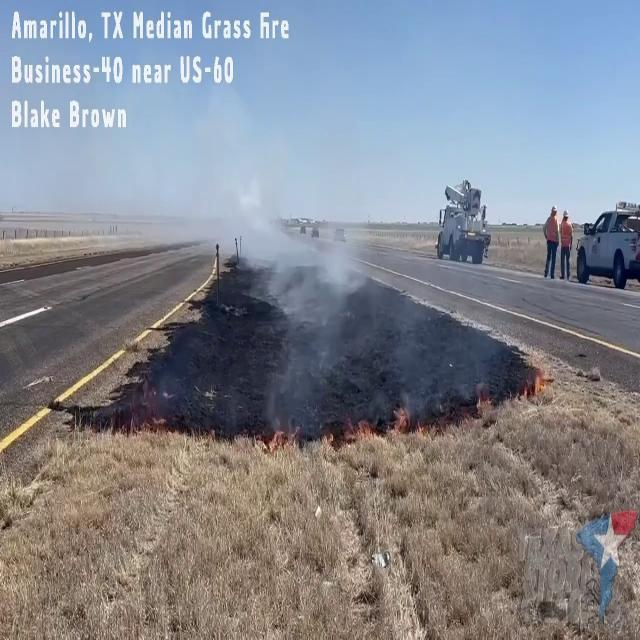Smoke: (243, 181, 366, 440)
